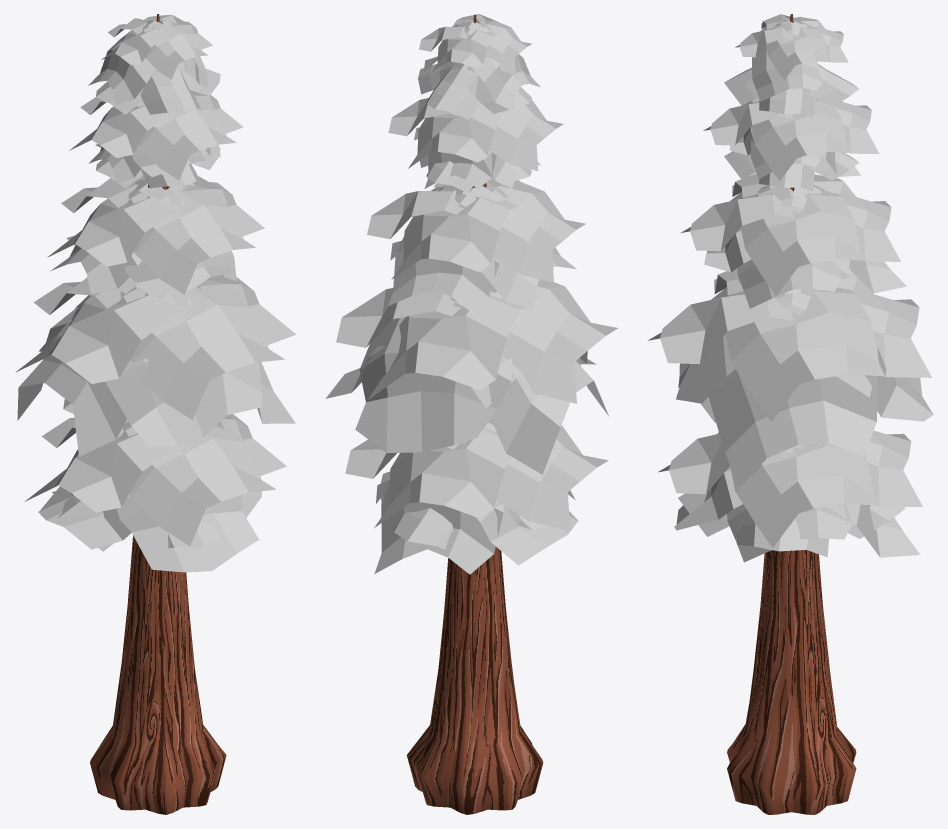
File: Redwood_Tree_Joined2.fbx
3 renders of one model, left to right at view 1: azimuth 30°, elevation 25°; view 2: azimuth 150°, elevation 25°; view 3: azimuth 270°, elevation 25°, orthographic.
Parts seen in each view (by area): view 1: Redwood Tree; view 2: Redwood Tree; view 3: Redwood Tree.
Boxes of the visible parts, left/top/right/bottom form: Redwood Tree: left=15, top=14, right=295, bottom=814; Redwood Tree: left=325, top=14, right=617, bottom=814; Redwood Tree: left=648, top=14, right=933, bottom=814.
Bounding box in the file's own units: 1869 × 5516 × 1844.
